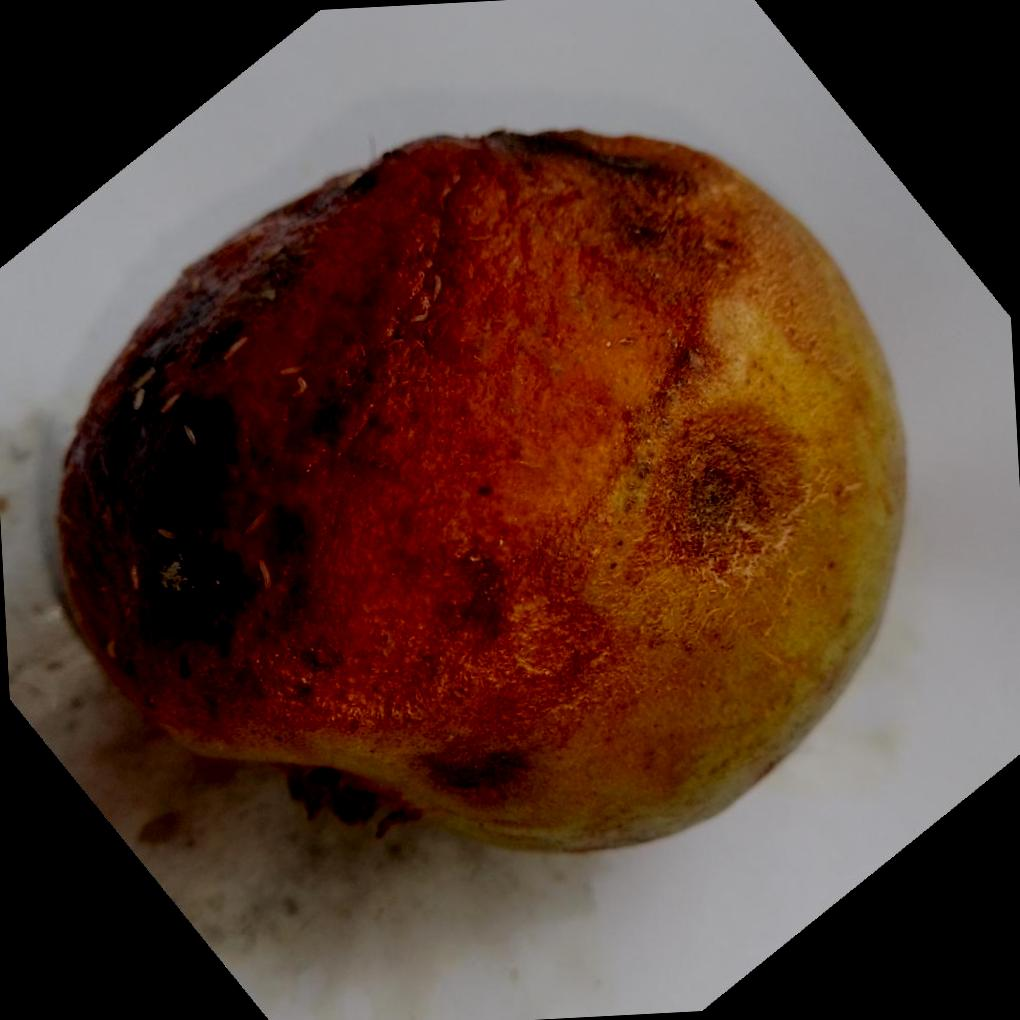FreshOrange: (47, 128, 909, 857)
